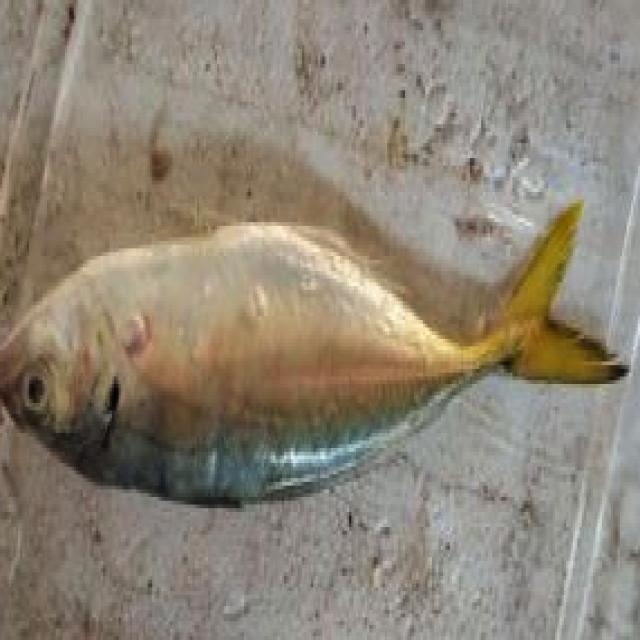Mackerel: (0, 205, 627, 506)
